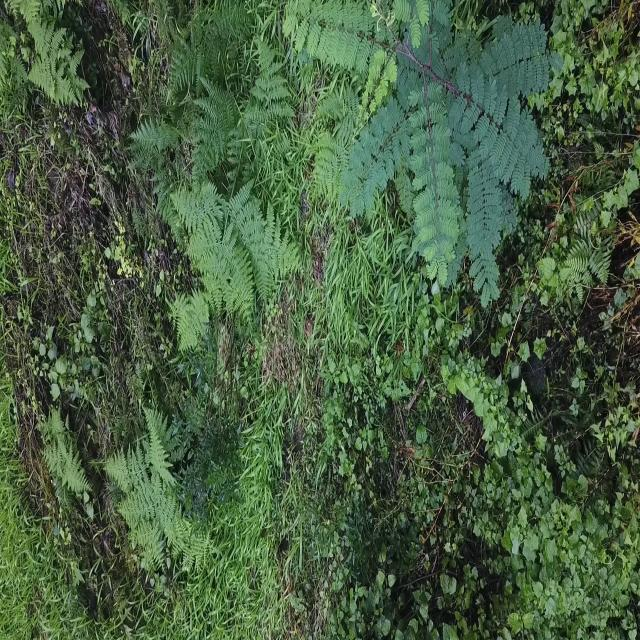Mysore-Thorn-Weed: (282, 0, 561, 303)
